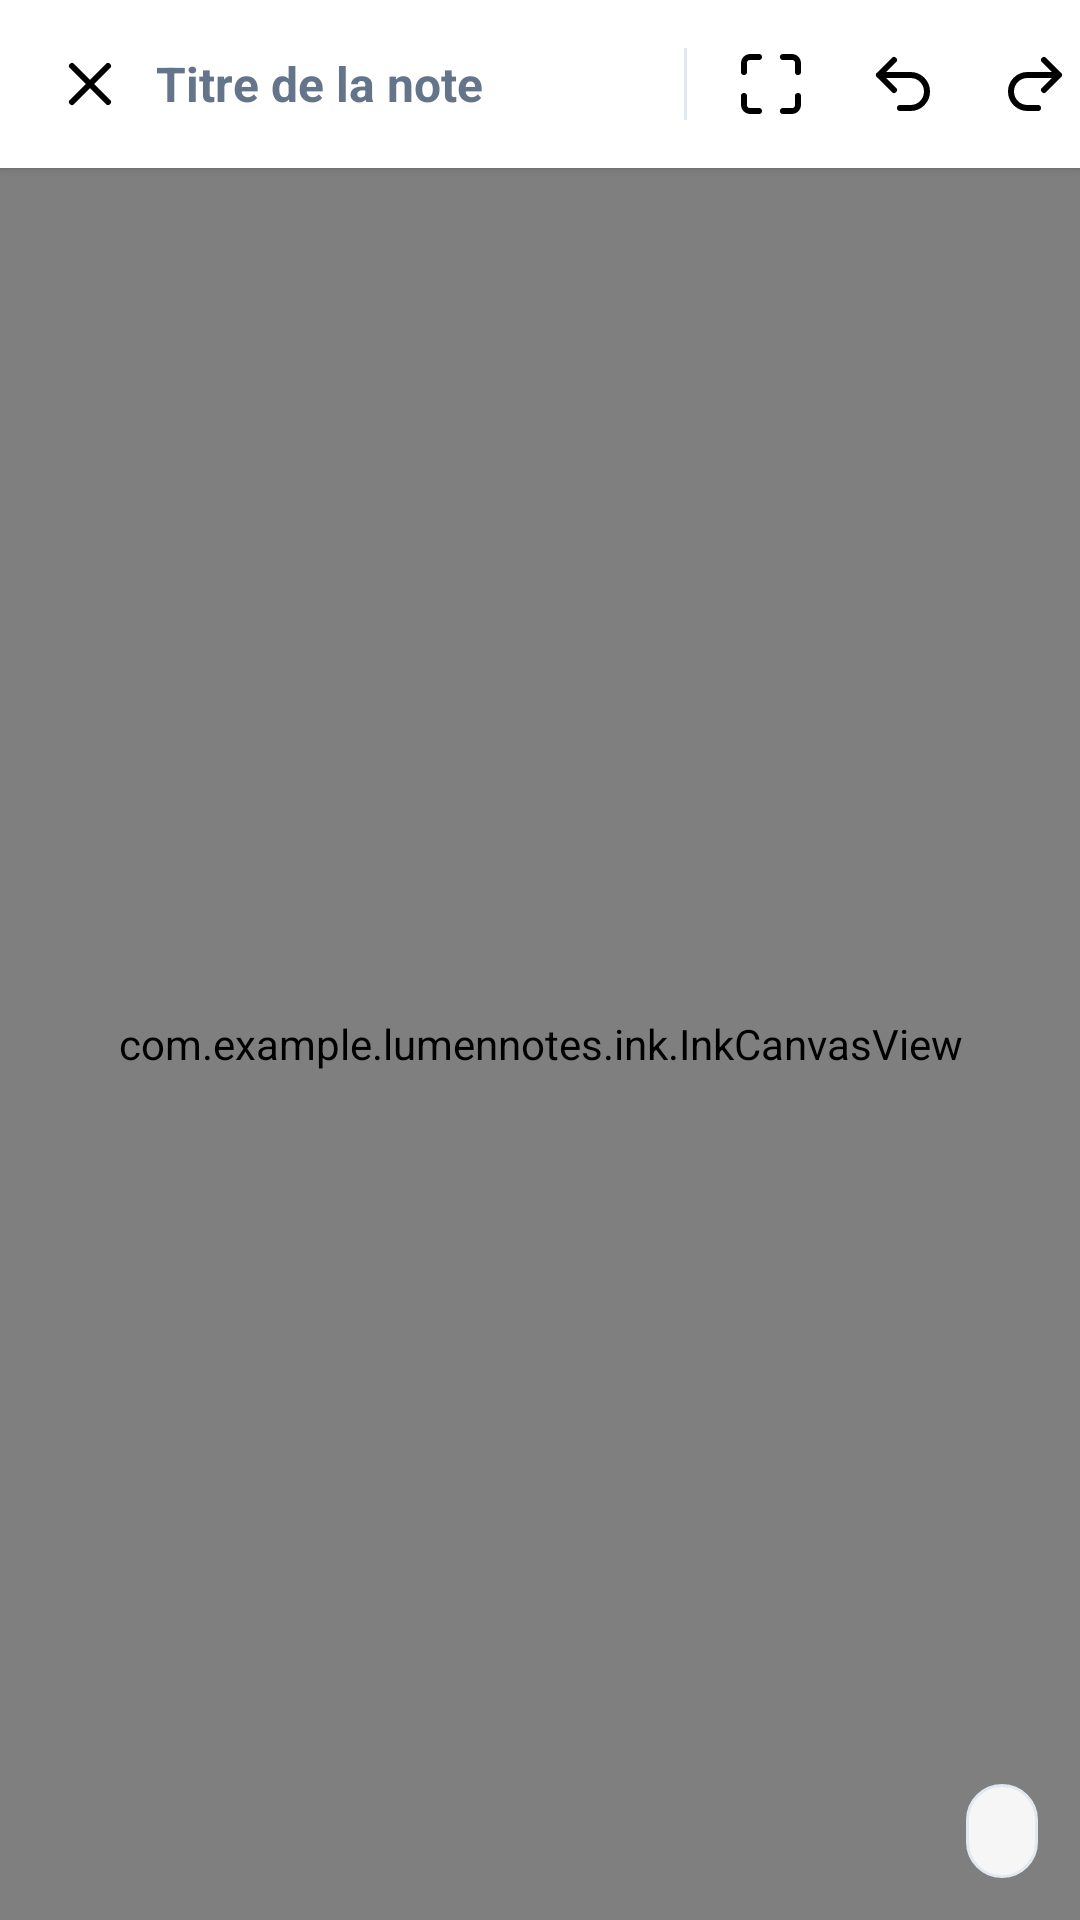

Where icons sit on this 1080px×1920px app screen, as (x1, y1, x2, y2):
Ajuster la page à l’écran: (741, 54, 801, 114)
Annuler: (876, 57, 930, 111)
Fermer la note: (69, 63, 111, 105)
